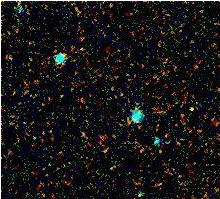star: (174, 92, 204, 122)
